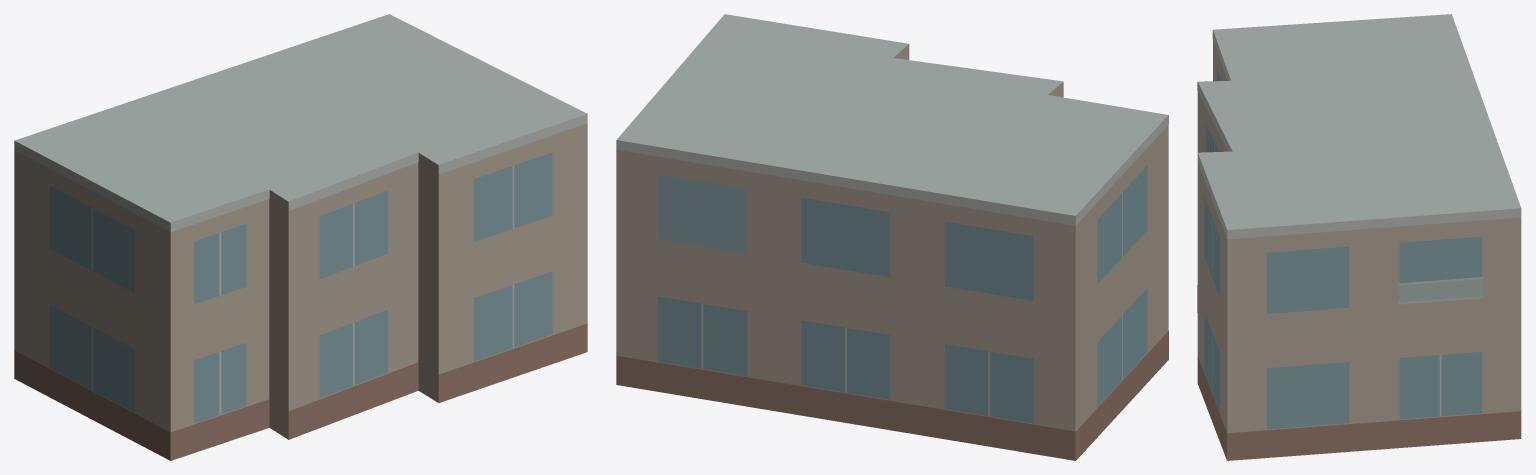
The model's file is survey-upis-32734796.glb.
3 views of the same model, side by side, from view 1: azimuth 30°, elevation 25°; view 2: azimuth 150°, elevation 25°; view 3: azimuth 270°, elevation 25° (orthographic). The views are drawn at different scales.
Parts seen in each view (by area): view 1: survey-upis-32734796.tmp; view 2: survey-upis-32734796.tmp; view 3: survey-upis-32734796.tmp.
Part boxes in pixels (x1=…): survey-upis-32734796.tmp: x1=14, y1=14, x2=587, y2=460; survey-upis-32734796.tmp: x1=616, y1=14, x2=1168, y2=460; survey-upis-32734796.tmp: x1=1197, y1=14, x2=1521, y2=460.
Bounding box in the file's own units: 12.27 × 6.1 × 7.77.
